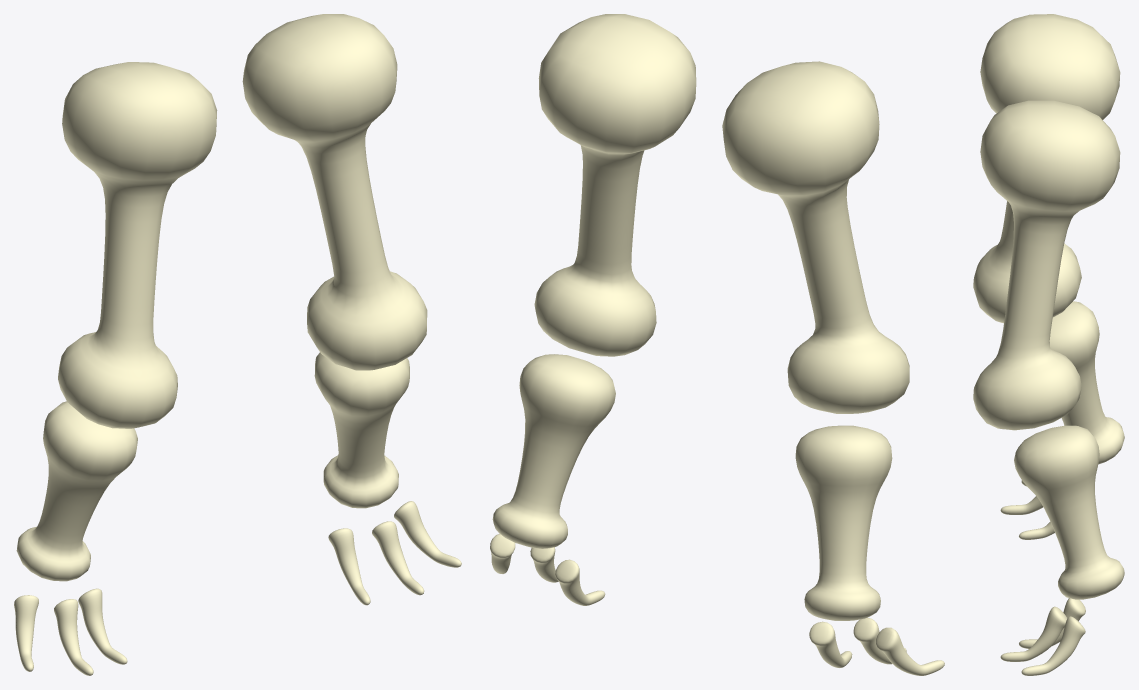
File: back_legs.glb
3 views of the same model, side by side, from view 1: azimuth 30°, elevation 25°; view 2: azimuth 150°, elevation 25°; view 3: azimuth 270°, elevation 25° (orthographic). The views are drawn at different scales.
Visible parts, largest first — view 1: back leg up, back leg down, Plane.005, Plane.007, Plane.006; view 2: back leg up, back leg down, Plane.005, Plane.006, Plane.007; view 3: back leg up, back leg down, Plane.007, Plane.006, Plane.005.
Boxes of the visible parts, x1,y1,x2,y2 form: back leg up: (58,14,427,428); back leg down: (16,352,409,581); Plane.005: (78,528,370,664); Plane.007: (54,521,424,675); Plane.006: (14,501,461,671); back leg up: (534,14,909,413); back leg down: (492,354,892,620); Plane.005: (555,559,852,667); Plane.006: (490,534,944,675); Plane.007: (530,547,906,664); back leg up: (973,14,1120,430); back leg down: (1014,301,1124,599); Plane.007: (1000,496,1067,661); Plane.006: (1021,480,1085,675); Plane.005: (1019,521,1085,648).
Bounding box in the file's own units: 0.7315 × 0.9304 × 0.2428.
1 material, 1 textured.
